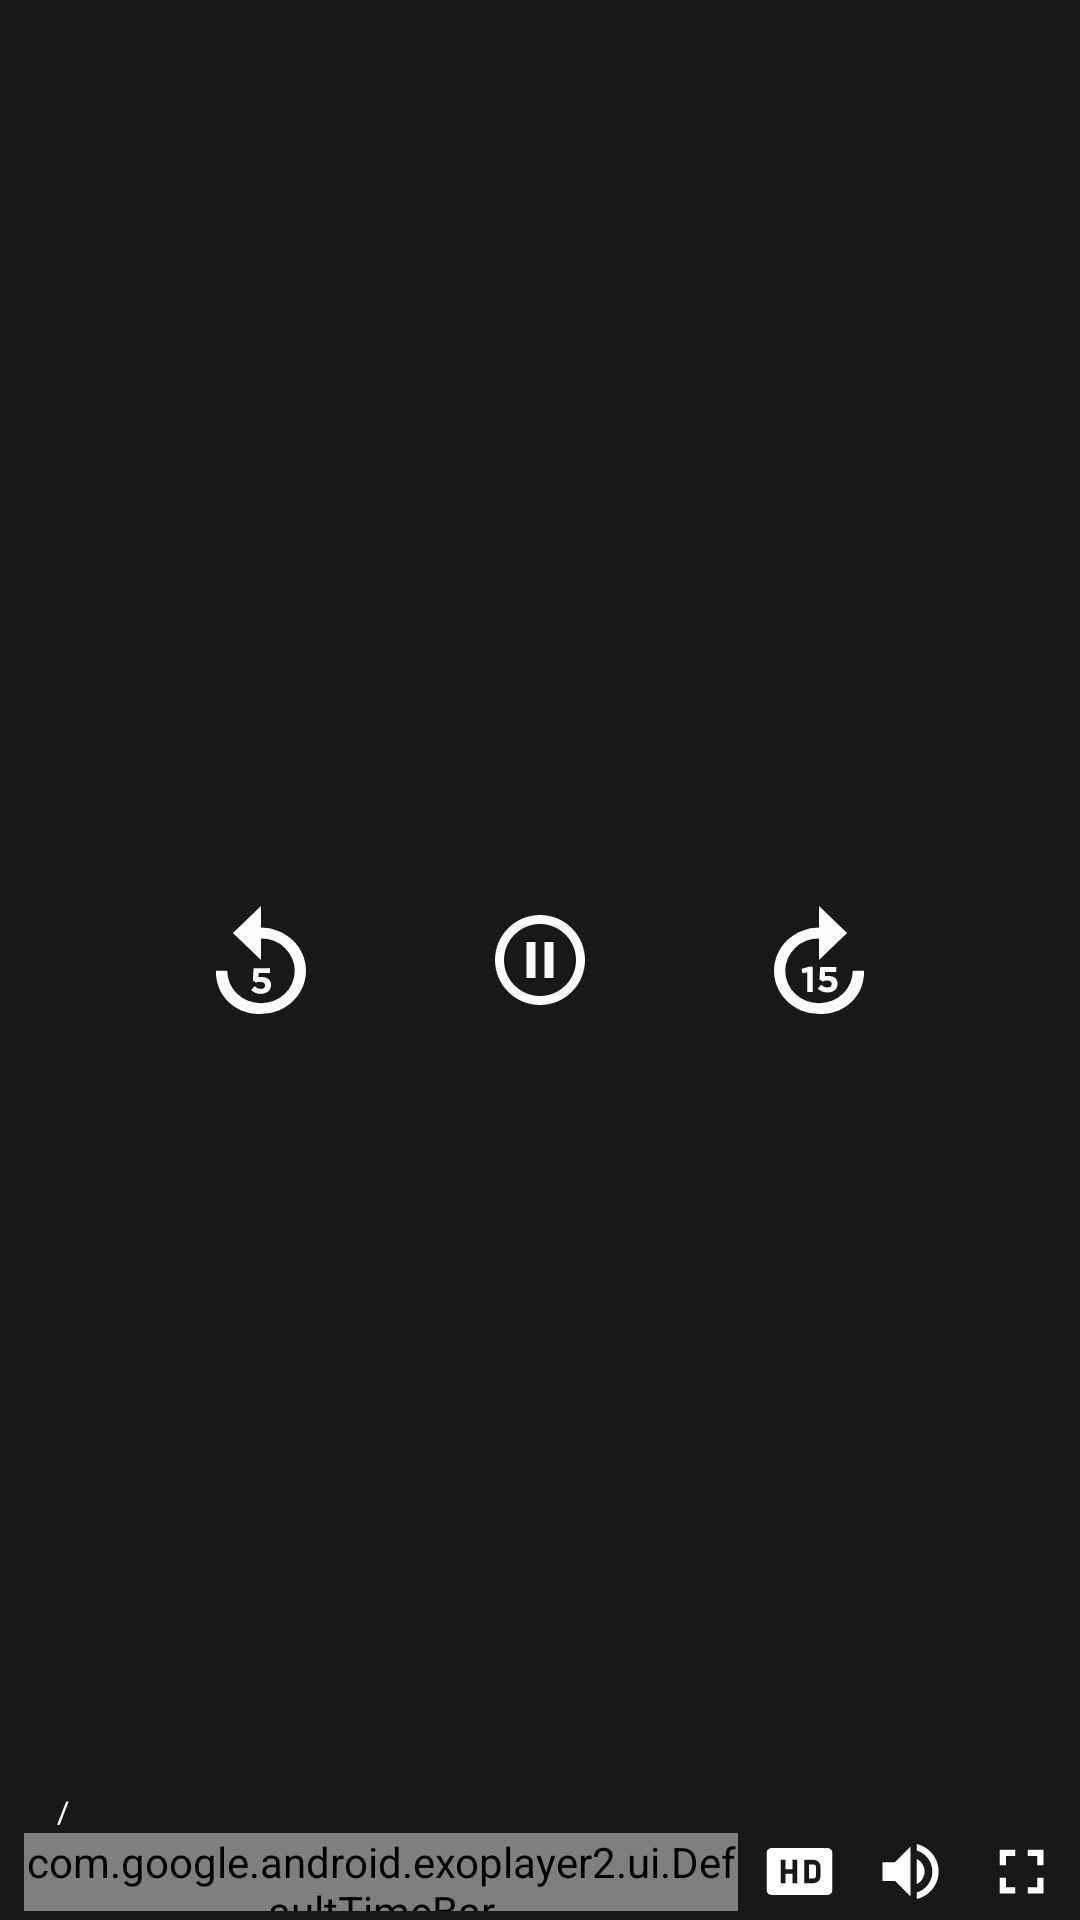

Screen size 1080×1920. Icon name, then its box in pixels as (x1,y1,x2,y2):
full: (999,1849,1044,1894)
pause circle: (495,915,585,1005)
rew: (216,906,306,1014)
volume up: (882,1844,939,1899)
